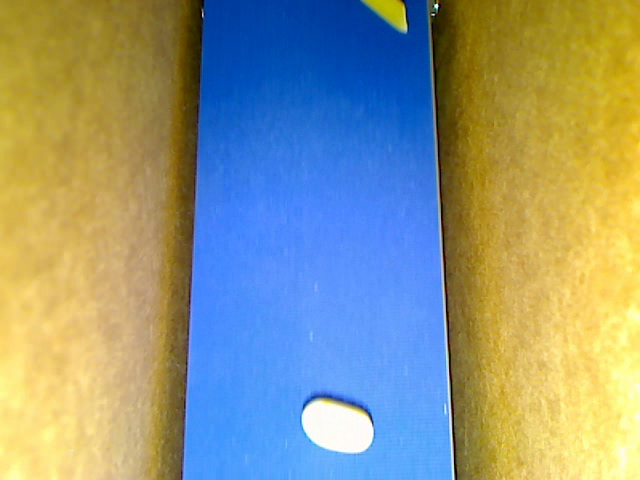penne: (359, 1, 408, 34)
